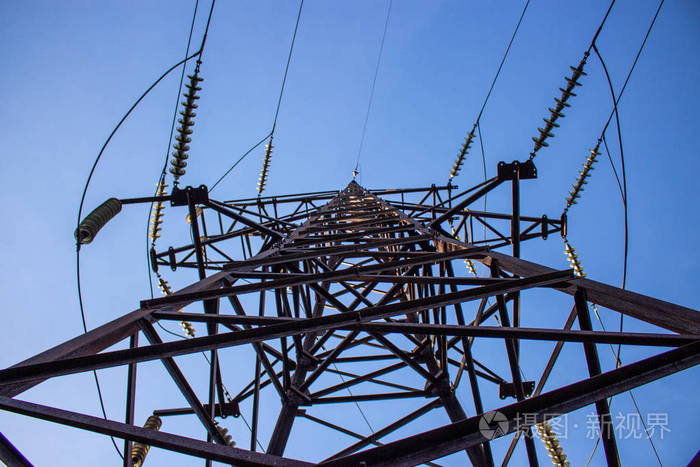insulator: (529, 62, 588, 148), (169, 76, 202, 178), (75, 195, 121, 246), (565, 148, 604, 207), (158, 280, 195, 335), (128, 412, 164, 467), (536, 422, 568, 467), (146, 181, 167, 243), (449, 131, 475, 179), (257, 144, 274, 194), (565, 245, 587, 278), (464, 259, 480, 273)
